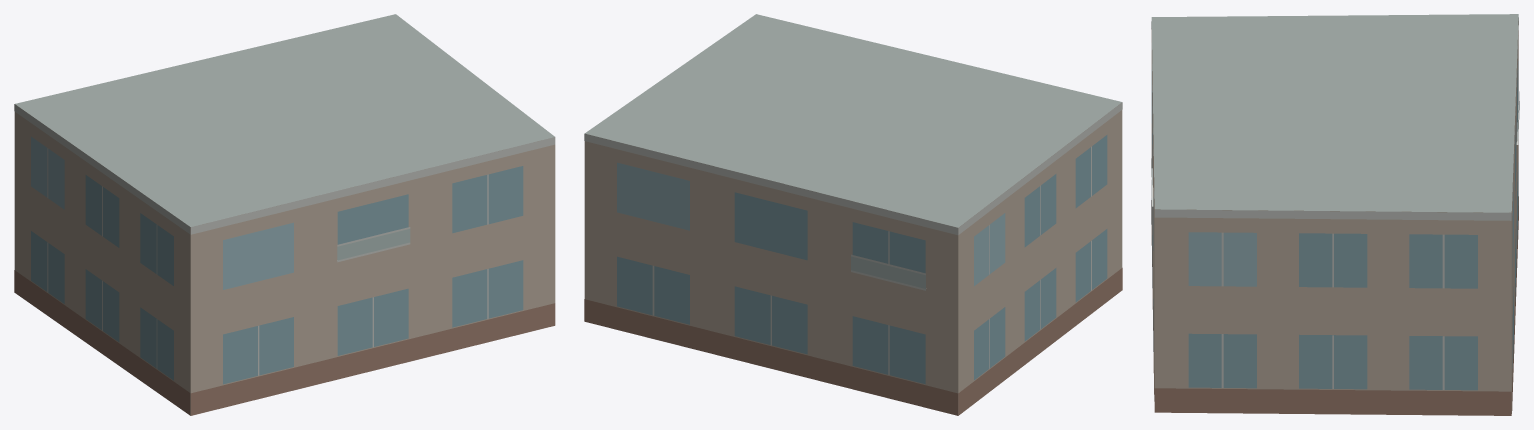
The model's file is survey-upis-32876263.glb.
3 views of the same model, side by side, from view 1: azimuth 30°, elevation 25°; view 2: azimuth 150°, elevation 25°; view 3: azimuth 270°, elevation 25° (orthographic). The views are drawn at different scales.
Visible parts, largest first — view 1: survey-upis-32876263.tmp; view 2: survey-upis-32876263.tmp; view 3: survey-upis-32876263.tmp.
Part boxes in pixels (<box>): survey-upis-32876263.tmp: <box>14,14,555,415</box>; survey-upis-32876263.tmp: <box>584,14,1122,415</box>; survey-upis-32876263.tmp: <box>1151,14,1519,415</box>.
Size of the model in its own units: 12.81 by 6.1 by 10.02.
